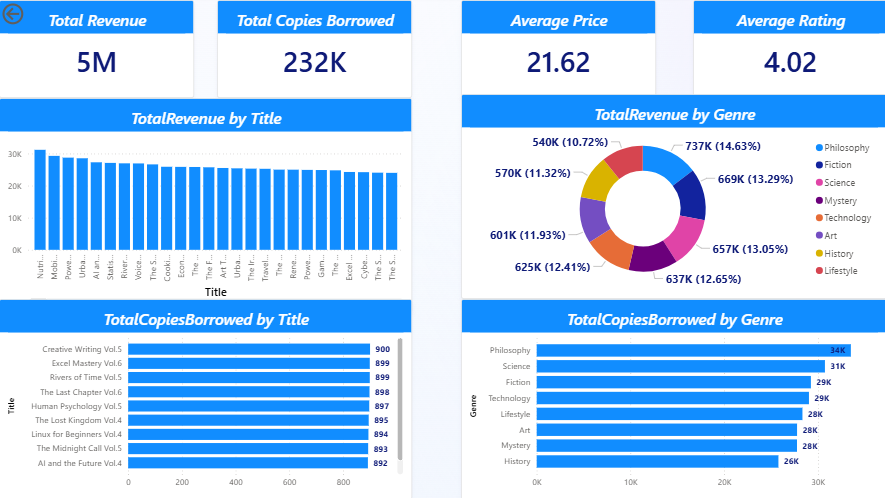

The dashboard page shown, as its layout file describes it:
{"tool":"powerbi","page":{"name":"Page 1","canvas":[1280,720],"ordinal":0},"visuals":[{"type":"card","title":"Total Copies Borrowed","fields":{"Values":["Library_Books.TotalCopiesBorrowed"]},"box":[0,0,280.8,141.1],"z":0},{"type":"card","title":"Average Rating","fields":{"Values":["Library_Books.AvgRating"]},"box":[999.4,0,280.8,141.1],"z":1000},{"type":"card","title":"Total Revenue ","fields":{"Values":["Library_Books.TotalRevenue"]},"box":[313.9,0,280.8,141.1],"z":2000},{"type":"card","title":"Average Price ","fields":{"Values":["Library_Books.AvgPrice"]},"box":[665.3,0,280.8,141.1],"z":3000},{"type":"actionButton","box":[0,0,100,40],"z":4000},{"type":"clusteredColumnChart","fields":{"Category":["Library_Books.Title"],"Y":["Library_Books.TotalRevenue"]},"box":[0,141.1,594.7,309.6],"z":5000},{"type":"barChart","fields":{"Category":["Library_Books.Title"],"Y":["Library_Books.TotalCopiesBorrowed"]},"box":[0,430.6,594.7,289.4],"z":6000},{"type":"donutChart","fields":{"Category":["Library_Books.Genre"],"Y":["Library_Books.TotalRevenue"]},"box":[665.3,135.4,613.4,295.2],"z":7000},{"type":"clusteredBarChart","fields":{"Y":["Library_Books.TotalCopiesBorrowed"],"Category":["Library_Books.Genre"]},"box":[665.3,430.6,613.4,289.4],"z":8000}]}

Visuals, with their boxes in screenshot pixels (x1, y1, x2, y2), scaled from the page's 1280x720 canvas onto the 885x498 screenshot:
"Total Copies Borrowed" card: [x1=0, y1=0, x2=194, y2=98]
"Average Rating" card: [x1=691, y1=0, x2=884, y2=98]
"Total Revenue " card: [x1=217, y1=0, x2=411, y2=98]
"Average Price " card: [x1=460, y1=0, x2=654, y2=98]
actionButton: [x1=0, y1=0, x2=69, y2=28]
clusteredColumnChart - Library_Books.Title x Library_Books.TotalRevenue: [x1=0, y1=98, x2=411, y2=312]
barChart - Library_Books.Title x Library_Books.TotalCopiesBorrowed: [x1=0, y1=298, x2=411, y2=497]
donutChart - Library_Books.Genre x Library_Books.TotalRevenue: [x1=460, y1=94, x2=884, y2=298]
clusteredBarChart - Library_Books.TotalCopiesBorrowed x Library_Books.Genre: [x1=460, y1=298, x2=884, y2=497]
